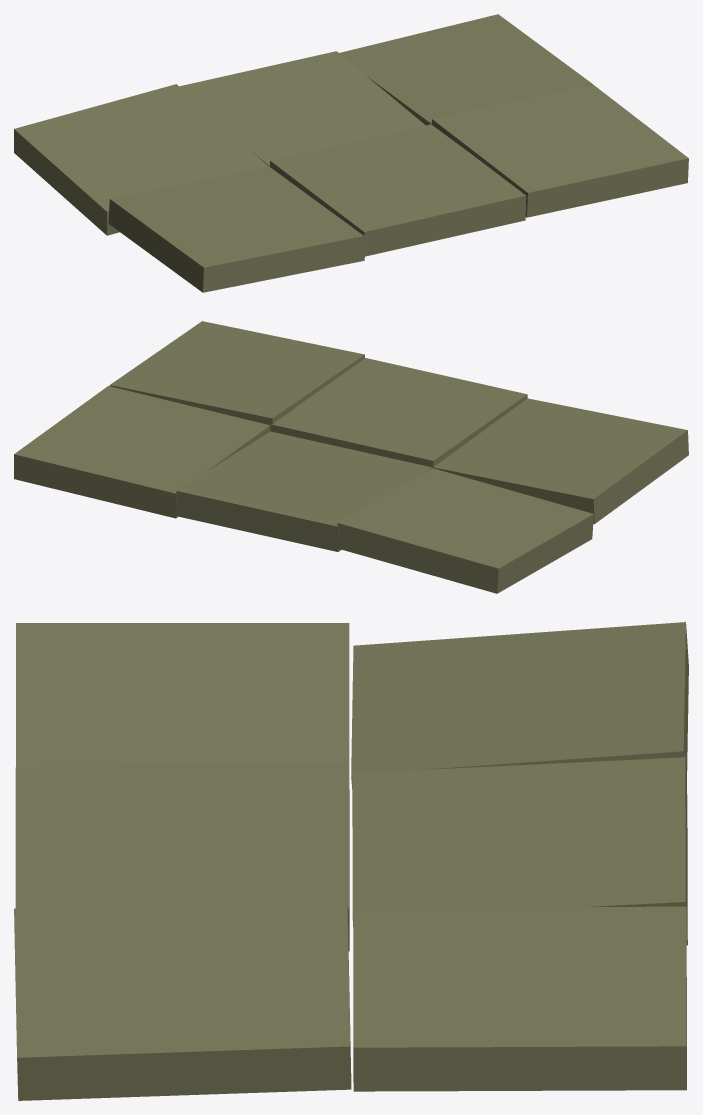
The model's file is ground_tiles.fbx.
The picture shows the model from 3 angles, top to bottom: view 1: azimuth 30°, elevation 25°; view 2: azimuth 150°, elevation 25°; view 3: azimuth 270°, elevation 25°; orthographic projection. The views are drawn at different scales.
Parts seen in each view (by area): view 1: ground_simple2, ground_simple6, ground_simple4, ground_simple1, ground_simple3, ground_simple5; view 2: ground_simple1, ground_simple5, ground_simple2, ground_simple3, ground_simple4, ground_simple6; view 3: ground_simple6, ground_simple5, ground_simple3, ground_simple2, ground_simple4, ground_simple1.
Boxes of the visible parts, x1,y1,x2,y2 form: ground_simple2: (108,167,365,292); ground_simple6: (431,84,688,217); ground_simple4: (270,124,526,256); ground_simple1: (14,84,268,235); ground_simple3: (179,51,425,166); ground_simple5: (339,14,592,125); ground_simple1: (337,468,593,593); ground_simple5: (14,386,270,518); ground_simple2: (432,398,688,523); ground_simple3: (176,431,432,551); ground_simple4: (271,358,527,467); ground_simple6: (109,321,364,431); ground_simple6: (14,897,351,1100); ground_simple5: (353,906,686,1091); ground_simple3: (352,756,687,945); ground_simple2: (16,623,349,766); ground_simple4: (15,763,349,951); ground_simple1: (351,622,688,788).
Size of the model in its own units: 14.9 by 1.3 by 10.12.
